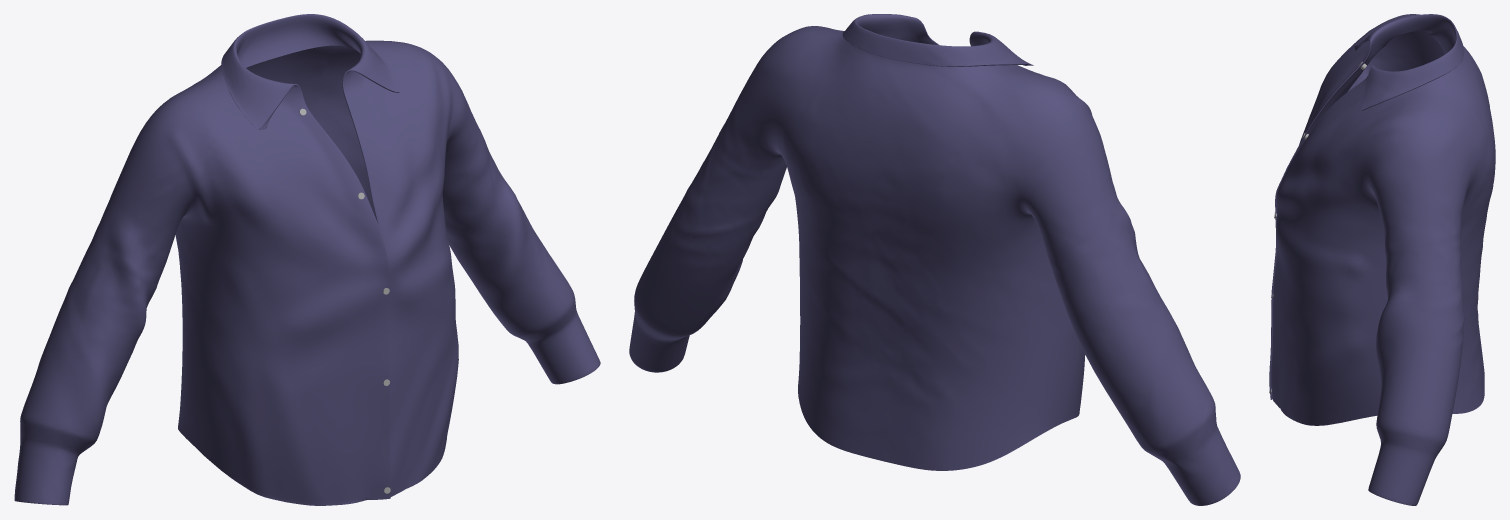
The model's file is Top2.fbx.
The picture shows the model from 3 angles, left to right: view 1: azimuth 30°, elevation 25°; view 2: azimuth 150°, elevation 25°; view 3: azimuth 270°, elevation 25°; orthographic projection. The views are drawn at different scales.
Visible parts, largest first — view 1: Group40761_CLOTH_0; view 2: Group40761_CLOTH_0; view 3: Group40761_CLOTH_0.
Boxes of the visible parts, x1,y1,x2,y2 form: Group40761_CLOTH_0: [14, 14, 600, 505]; Group40761_CLOTH_0: [629, 14, 1240, 505]; Group40761_CLOTH_0: [1269, 14, 1495, 505].
Bounding box in the file's own units: 93.57 × 62.6 × 35.57.
